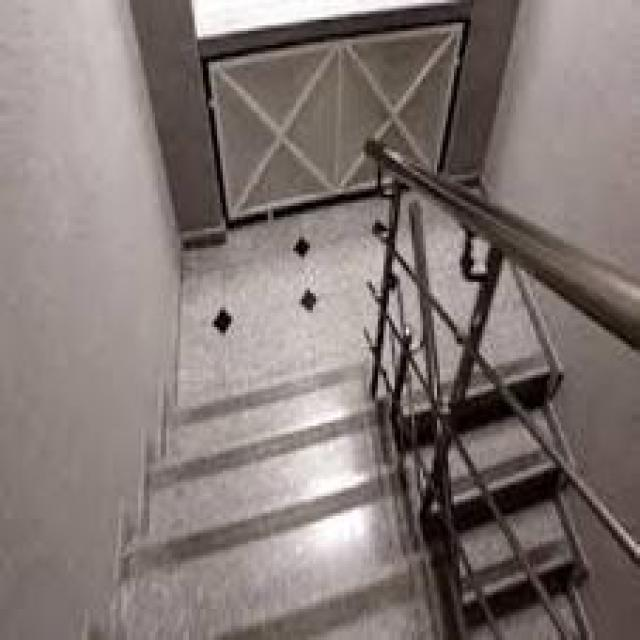downstair: (137, 393, 399, 570)
